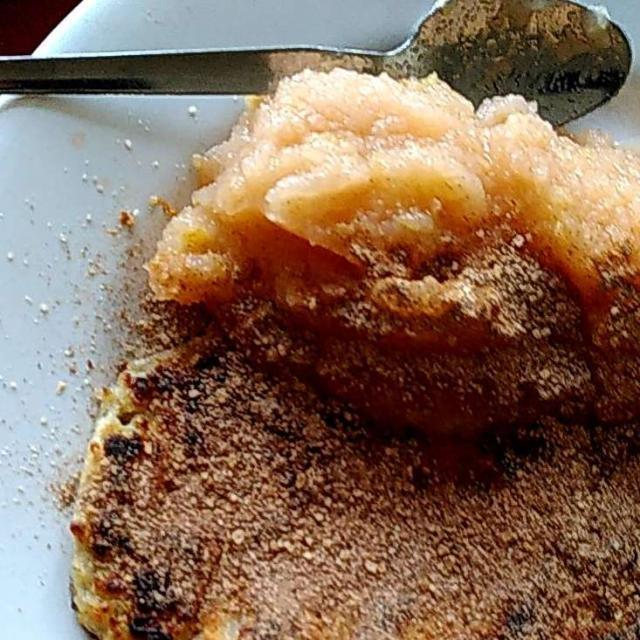applesauce: (153, 61, 603, 335)
rosti: (69, 338, 617, 627)
